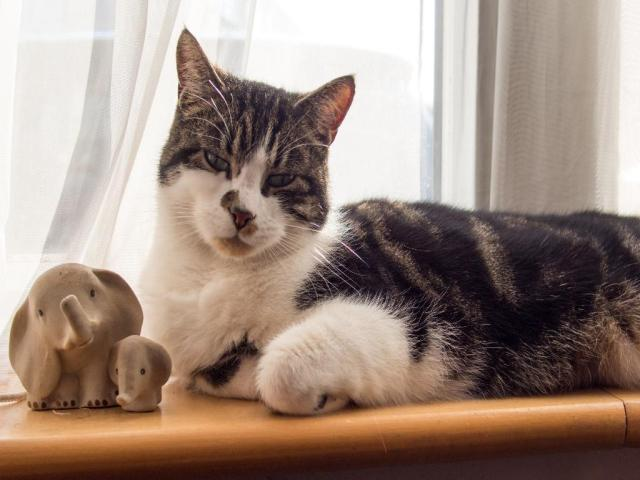Cat: (130, 20, 640, 419)
